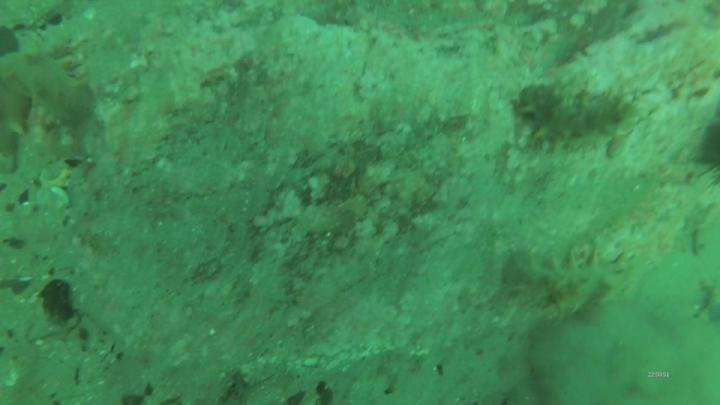echinus: (691, 115, 720, 185)
holothurian: (512, 246, 640, 326), (516, 81, 645, 156), (1, 43, 101, 137)
